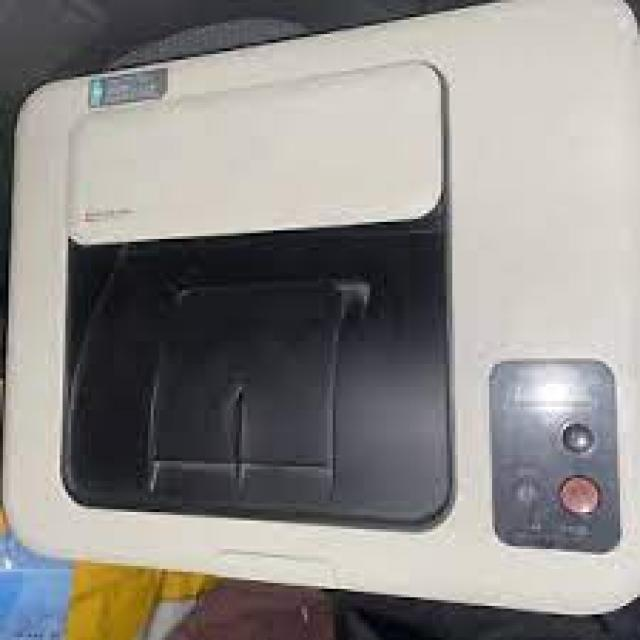printer: (5, 0, 640, 608)
